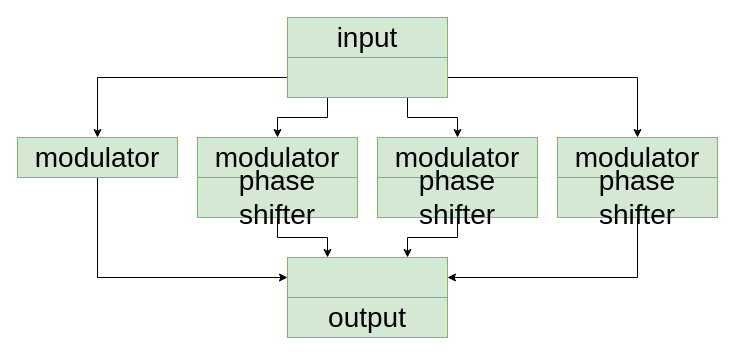
The diagram is 735 pixels wide and 355 high, and some of its shapes have lost their labels. Here are the shapes that lost their labels. From the top down, the centre of each, then its label:
At point (367, 77): "splitter".
At point (367, 277): "merger".
